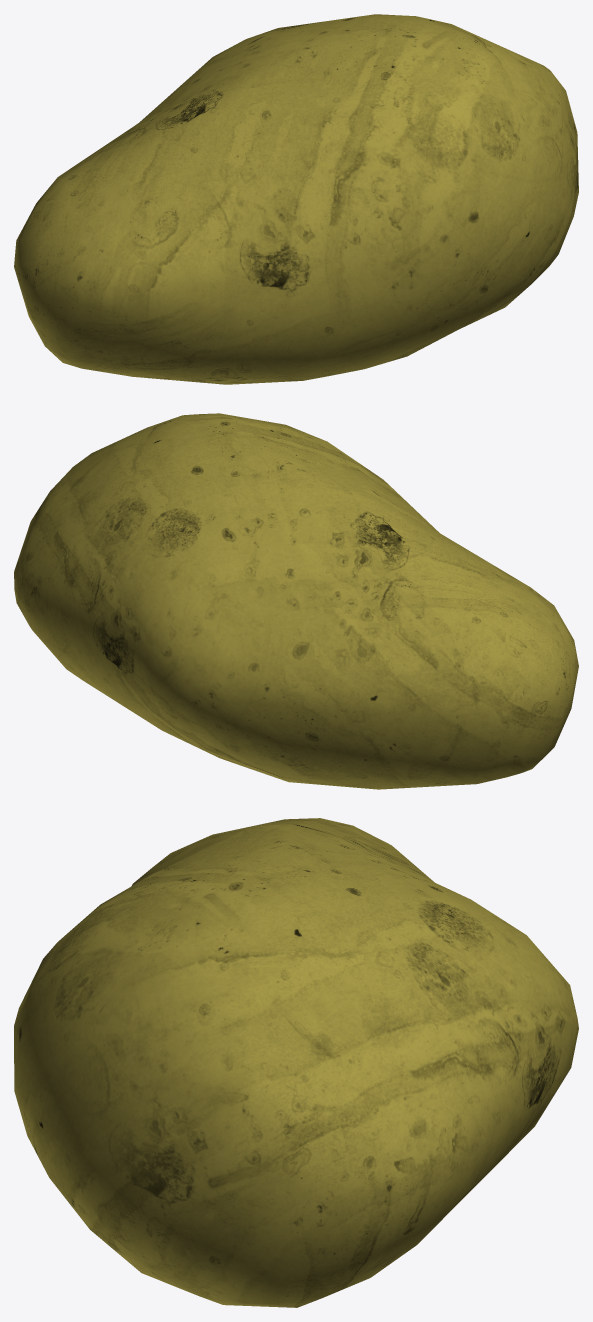
The model's file is Potato.fbx.
The picture shows the model from 3 angles, top to bottom: view 1: azimuth 30°, elevation 25°; view 2: azimuth 150°, elevation 25°; view 3: azimuth 270°, elevation 25°; orthographic projection. The views are drawn at different scales.
Parts seen in each view (by area): view 1: PotatoL; view 2: PotatoL; view 3: PotatoL.
Part boxes in pixels (x1,y1,x2,y2): PotatoL: (14, 14, 578, 384); PotatoL: (14, 413, 578, 789); PotatoL: (14, 818, 578, 1307).
Bounding box in the file's own units: 16.15 × 9.12 × 11.09.
